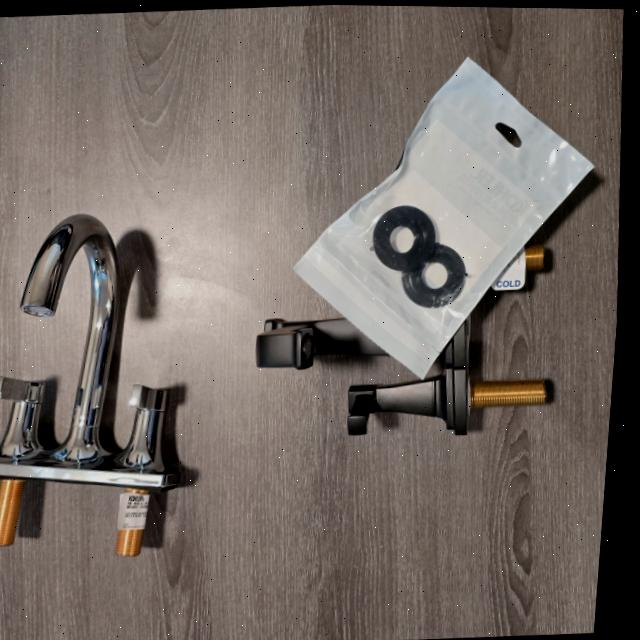10: (0, 215, 177, 555)
13: (294, 58, 593, 377)
9o: (346, 317, 545, 434), (255, 318, 388, 369), (491, 244, 543, 289)
